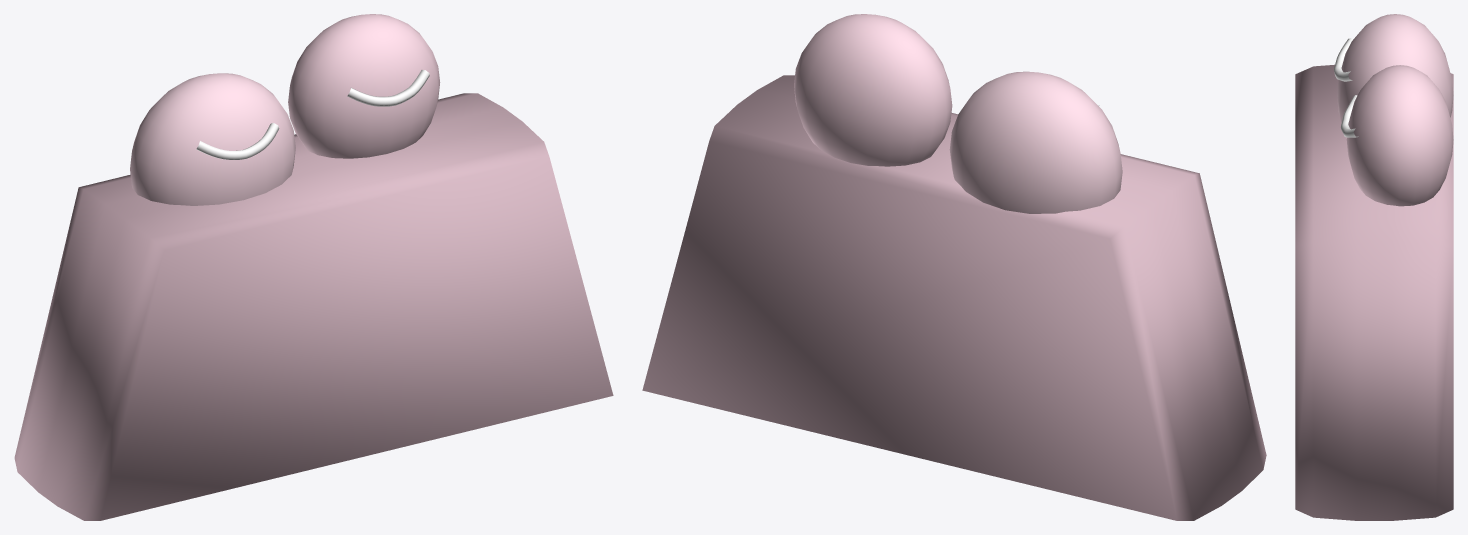
Rendered from decor_4_candy.glb.
3 views of the same model, side by side, from view 1: azimuth 30°, elevation 25°; view 2: azimuth 150°, elevation 25°; view 3: azimuth 270°, elevation 25° (orthographic). The views are drawn at different scales.
Visible parts, largest first — view 1: decor_4_candy; view 2: decor_4_candy; view 3: decor_4_candy.
Part boxes in pixels (x1,y1,x2,y2): decor_4_candy: (14,14,613,520); decor_4_candy: (642,14,1266,520); decor_4_candy: (1295,14,1453,520).
Bounding box in the file's own units: 8.3 × 5.81 × 2.33.
